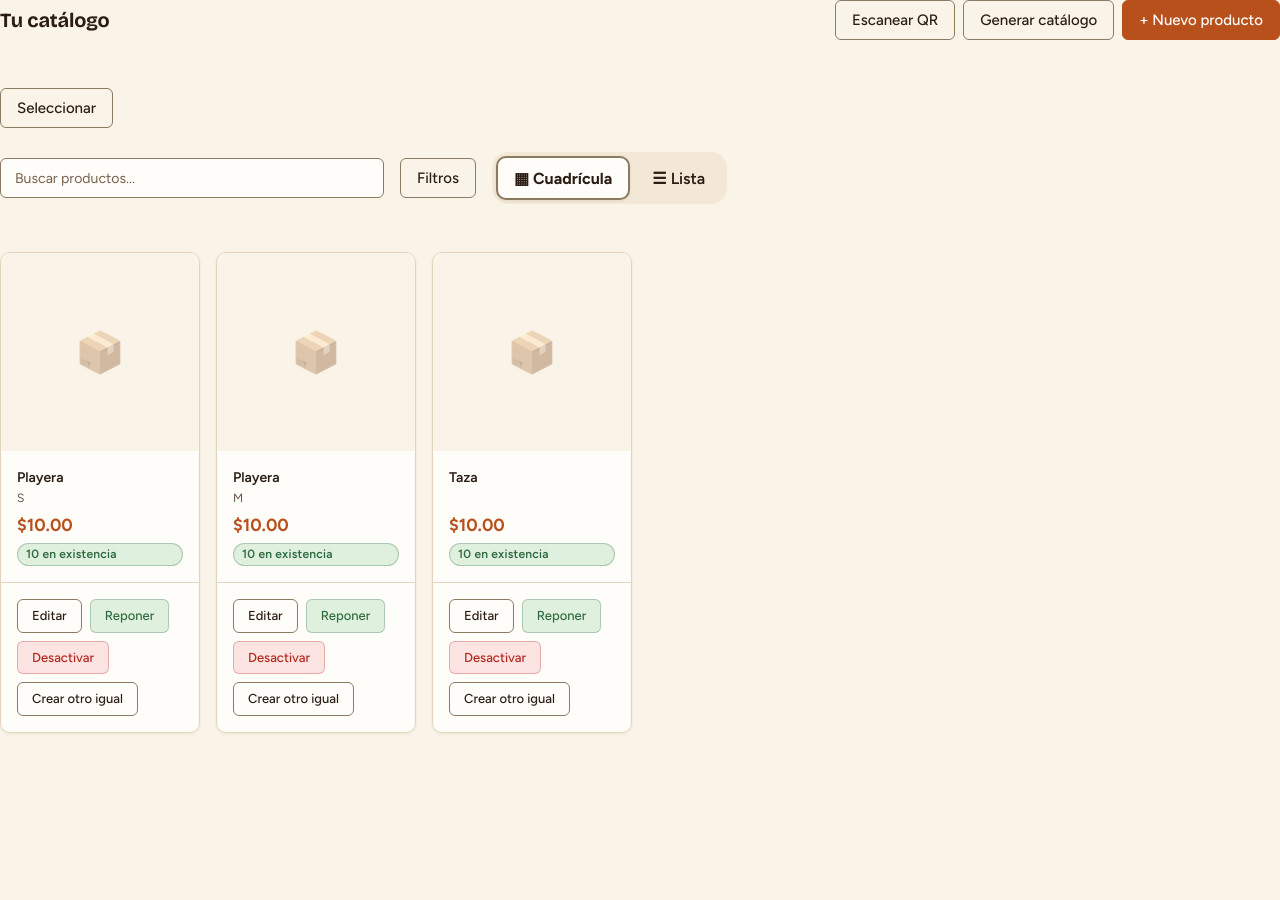
Test: ProductCatalogView — Generar catálogo: flujo › al abrir baja los productos (de a 100) y muestra el resumen
Click the button "Generar catálogo": click(1039, 20) [963,0,1114,40]
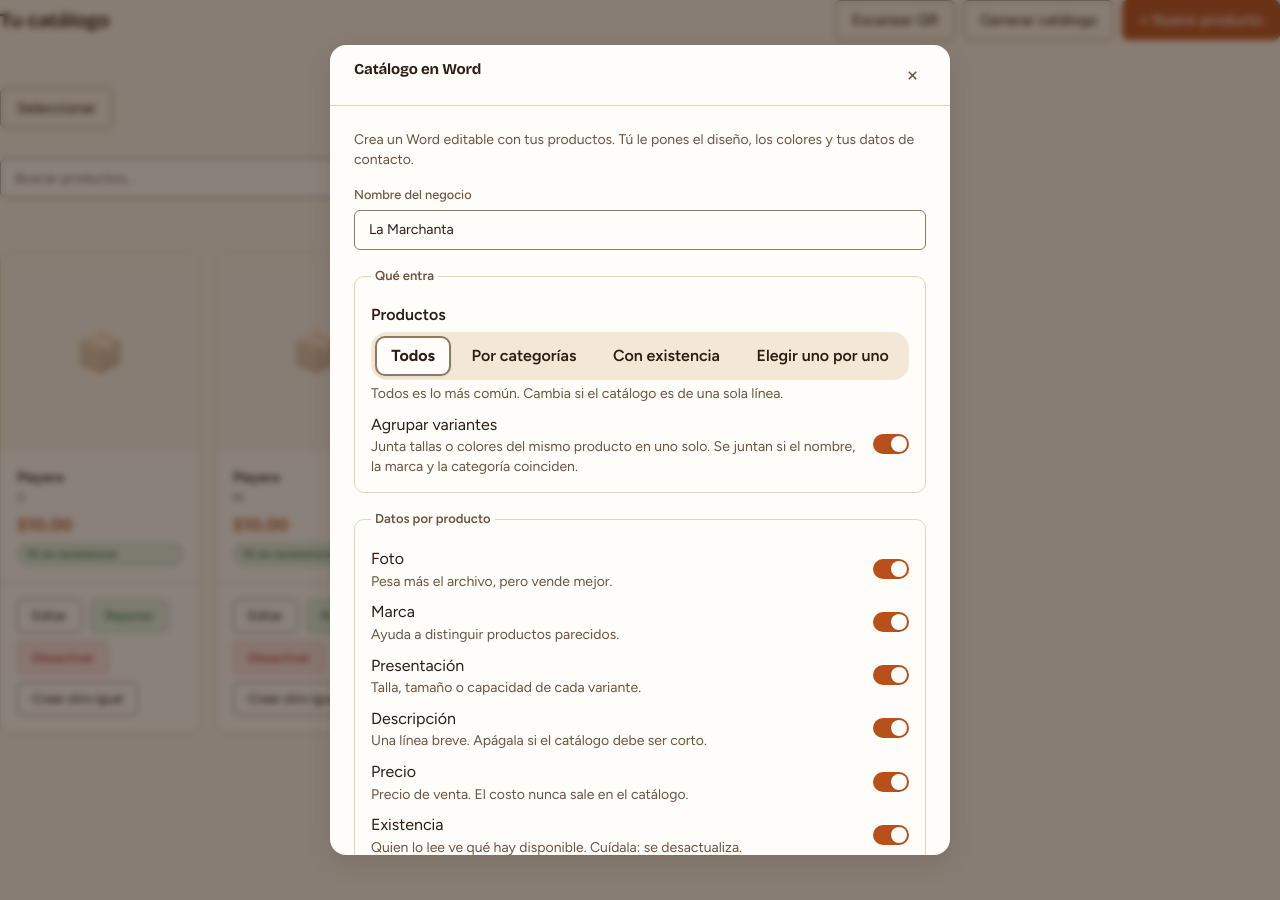
Now the text "Catálogo en Word" is shown, box [354,61,481,78]
